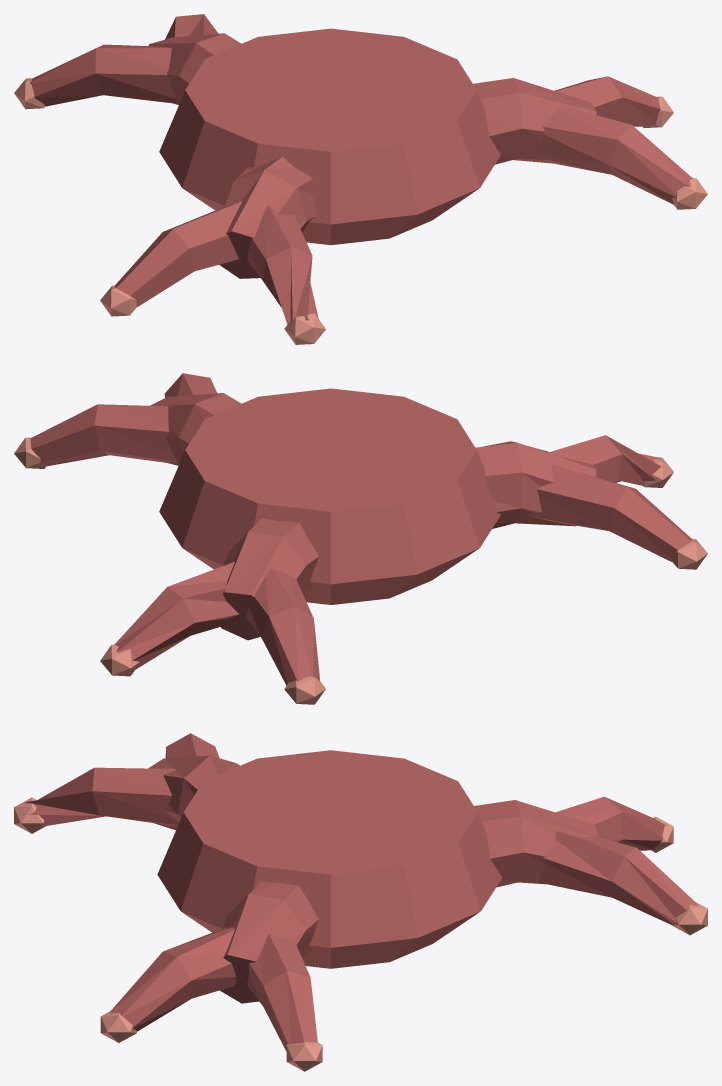
The model's file is CoralRoot.obj.
3 renders of one model, top to bottom at view 1: azimuth 30°, elevation 25°; view 2: azimuth 150°, elevation 25°; view 3: azimuth 270°, elevation 25°, orthographic.
Parts seen in each view (by area): view 1: CoralRoot_CoralRootBody, CoralRoot_CoralRootTips; view 2: CoralRoot_CoralRootBody, CoralRoot_CoralRootTips; view 3: CoralRoot_CoralRootBody, CoralRoot_CoralRootTips.
Boxes of the visible parts, <box> form: CoralRoot_CoralRootBody: <box>29,14,692,324</box>; CoralRoot_CoralRootTips: <box>14,78,707,344</box>; CoralRoot_CoralRootBody: <box>30,373,691,685</box>; CoralRoot_CoralRootTips: <box>14,437,707,704</box>; CoralRoot_CoralRootBody: <box>25,733,697,1051</box>; CoralRoot_CoralRootTips: <box>14,753,707,1071</box>.
Bounding box in the file's own units: 3.7 × 0.6 × 3.54.
